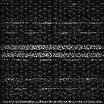lte: (1, 44, 104, 50), (1, 52, 104, 58), (1, 21, 104, 25), (1, 100, 104, 102)
